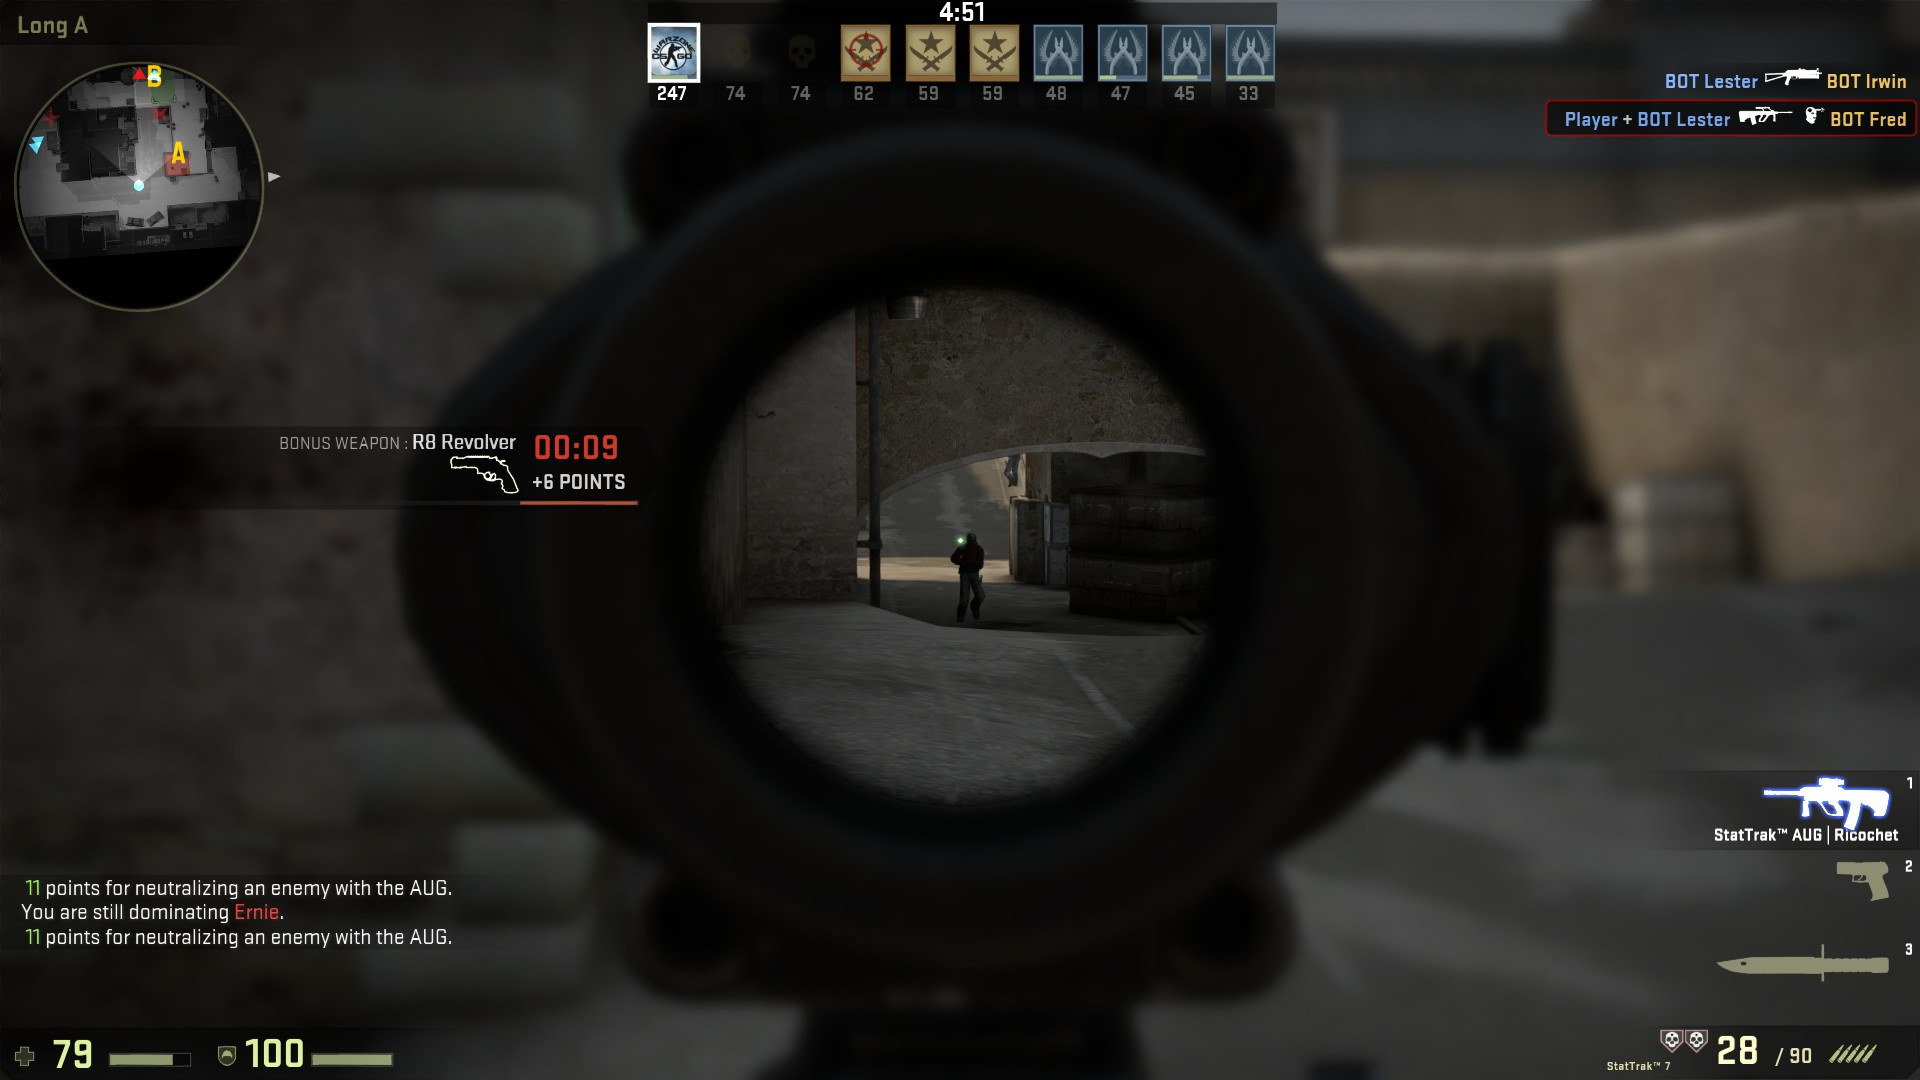t: (953, 533, 986, 618)
th: (967, 531, 978, 547)
